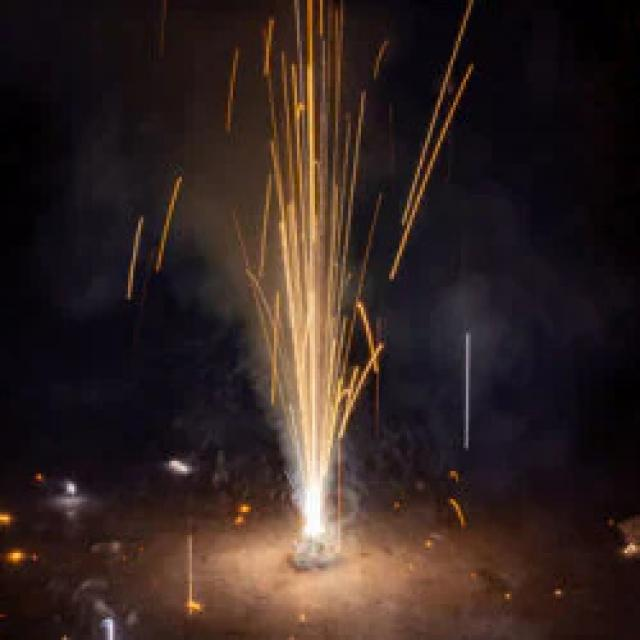fire: (223, 0, 385, 534)
